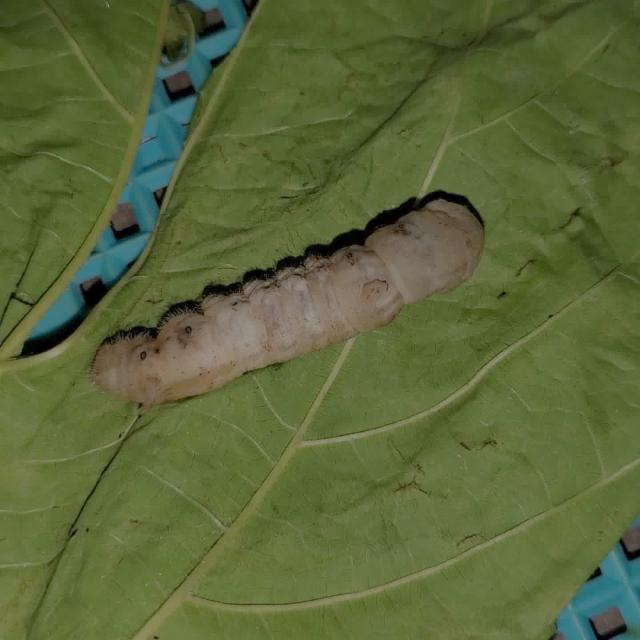Grasserie: (85, 165, 502, 421)
